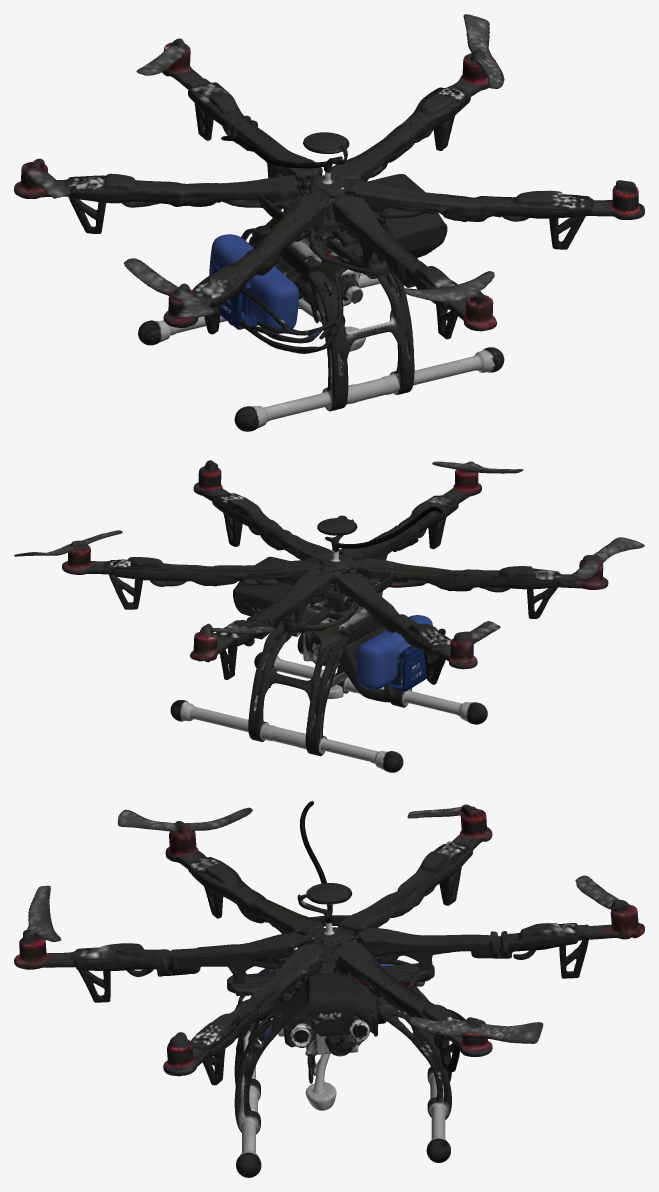
The model's file is tripo_convert_5e6f5691-ab82-4e0f-91f1-18dbaba37c72.fbx.
3 renders of one model, top to bottom at view 1: azimuth 30°, elevation 25°; view 2: azimuth 150°, elevation 25°; view 3: azimuth 270°, elevation 25°, orthographic. The views are drawn at different scales.
Parts seen in each view (by area): view 1: tripo_node_5e6f5691; view 2: tripo_node_5e6f5691; view 3: tripo_node_5e6f5691.
Boxes of the visible parts, box(x1,y1,x2,y2) form: tripo_node_5e6f5691: box(14, 14, 644, 431); tripo_node_5e6f5691: box(14, 460, 644, 772); tripo_node_5e6f5691: box(14, 801, 644, 1177).
Bounding box in the file's own units: 0.9315 × 0.4612 × 1.
1 material, 1 textured.
